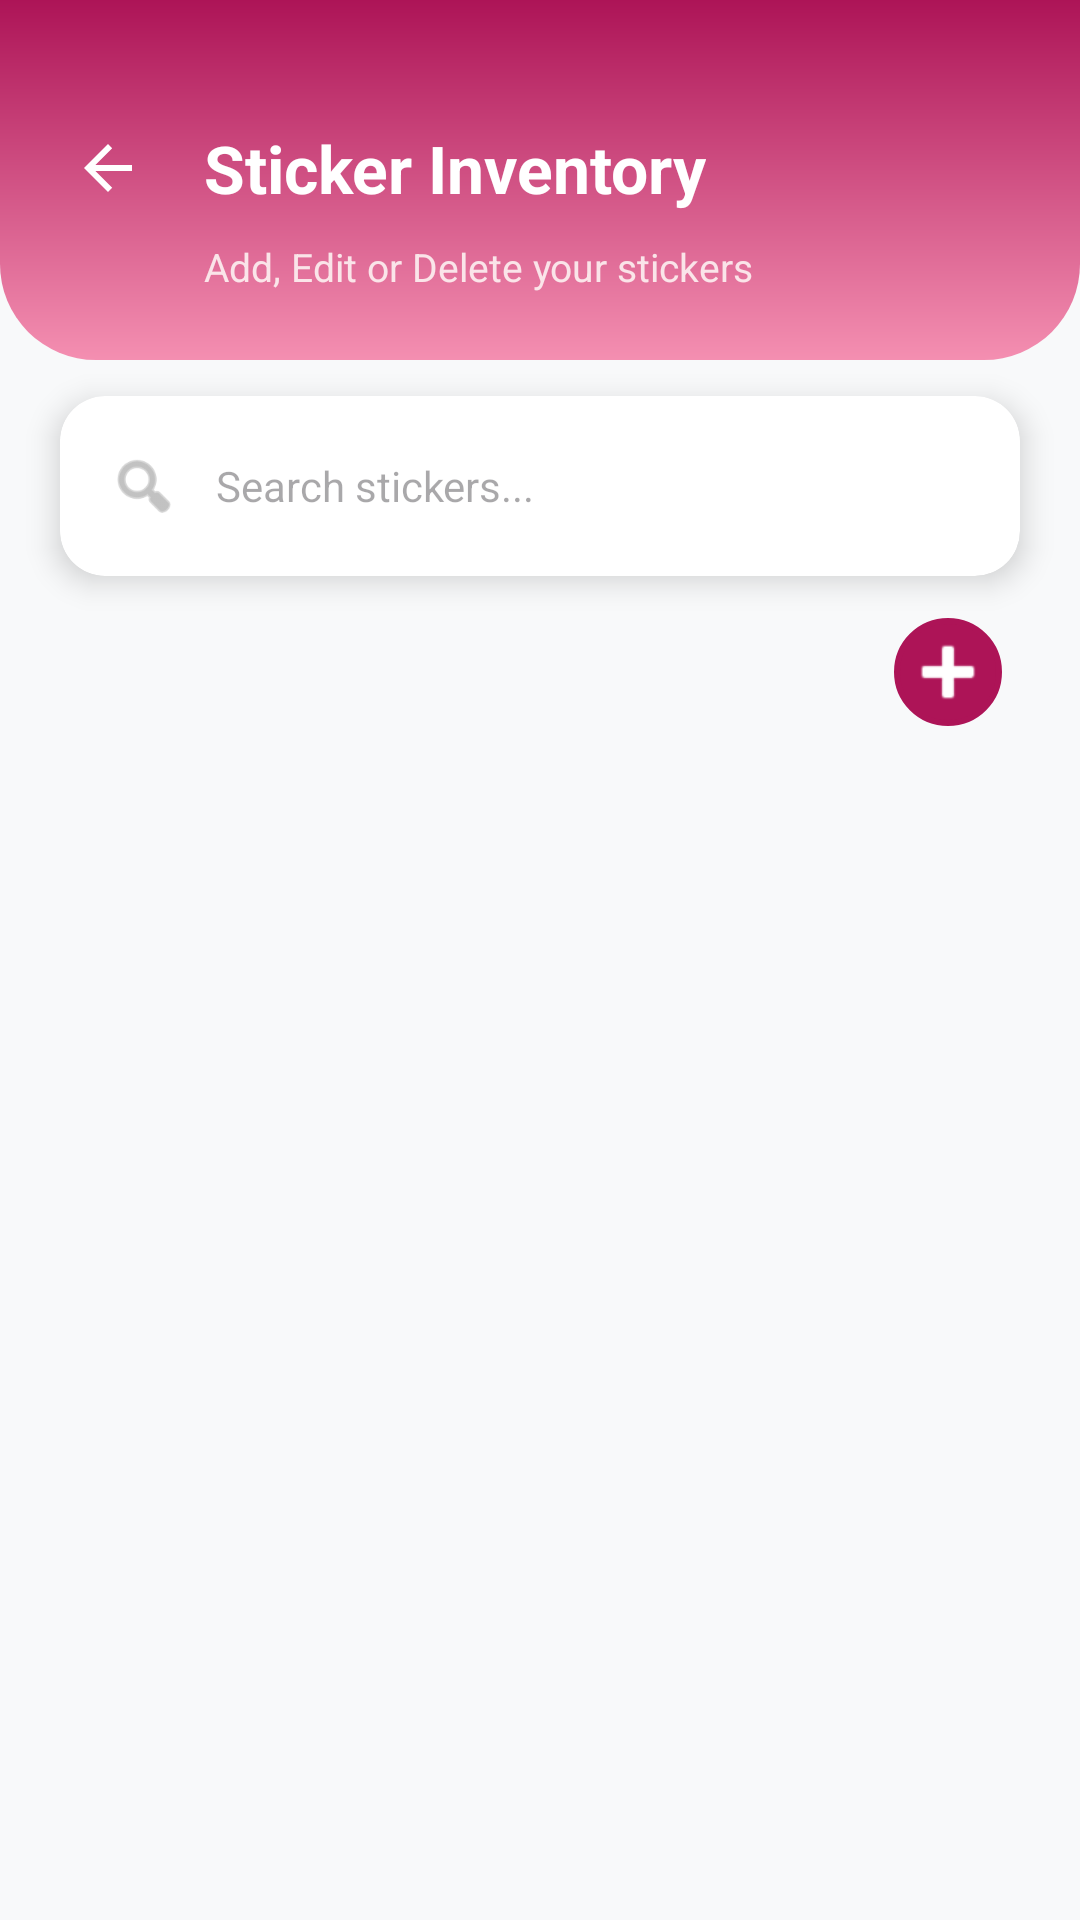

Screen size 1080*1920. Icon name, then its center in pixels as (x,y):
add: (948,672)
